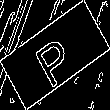P_NW: (30, 24, 80, 86)
